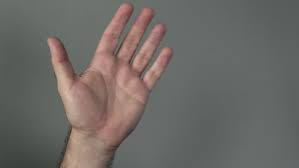hand: (35, 5, 190, 150)
